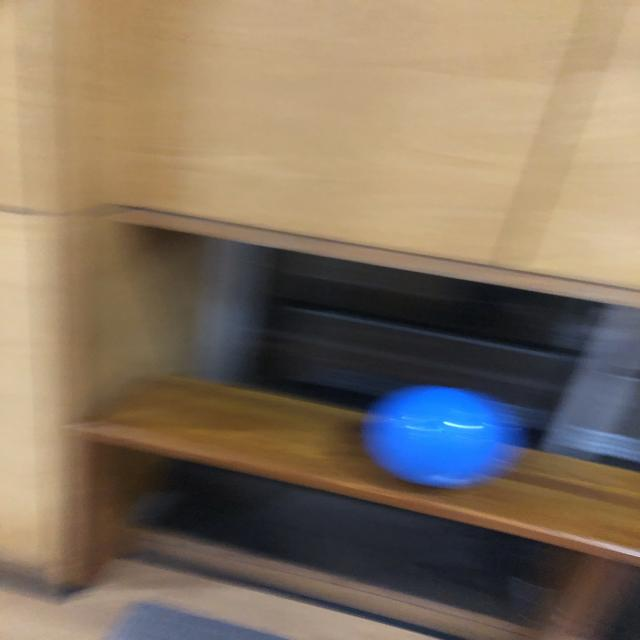blue_ball: (363, 384, 511, 486)
